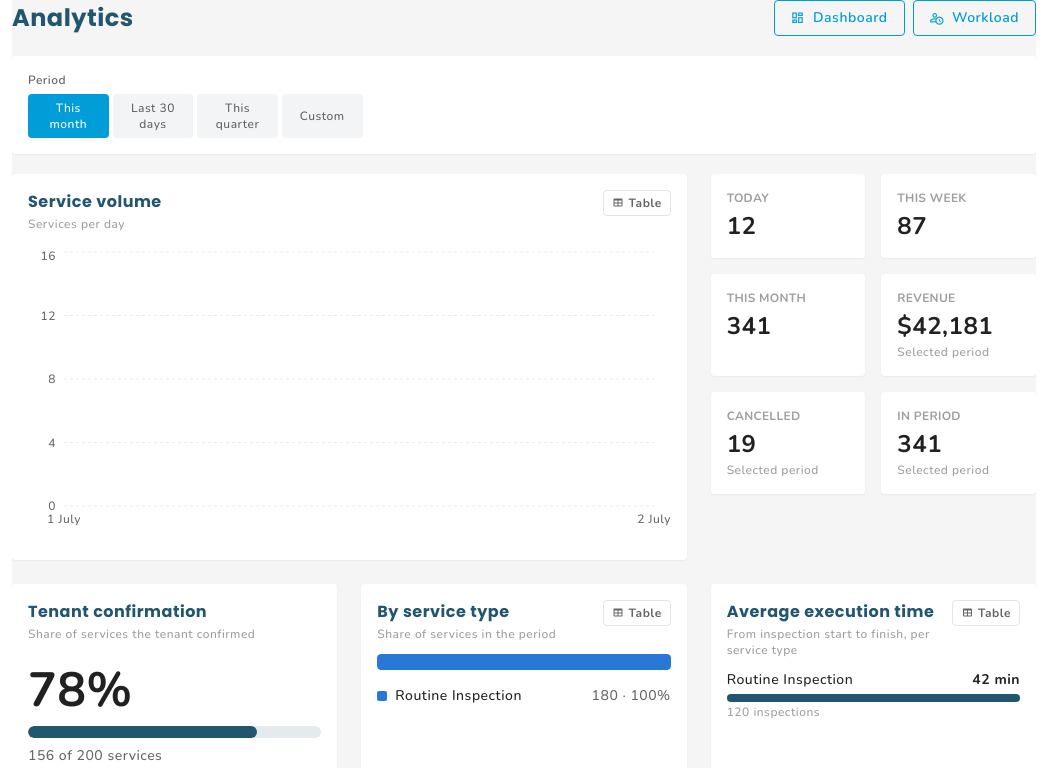
Scenario: AnalyticsPage — header cross-navigation › navigates to /dashboard when the Dashboard action is clicked
Click the button "Dashboard" at coordinates (839, 18), box [774,0,905,36]
(page scrolled)
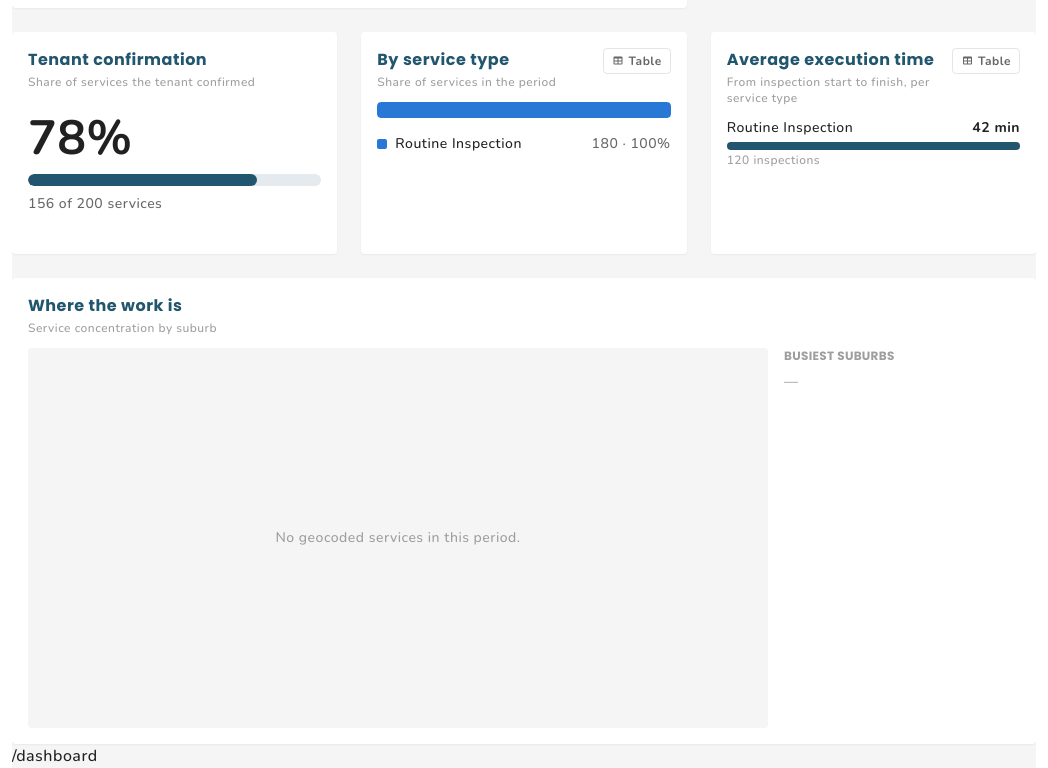
Check: the text with test id "location-display" reads "/dashboard", box [12,745,98,767]
